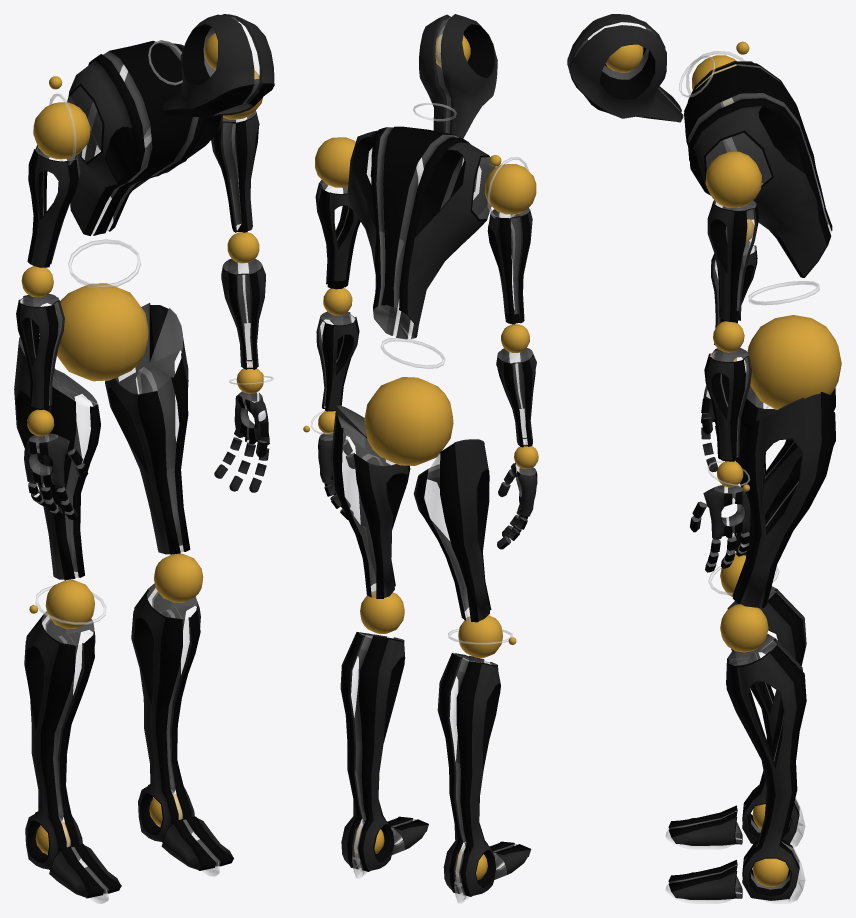
Rendered from Statue 3.fbx.
The picture shows the model from 3 angles, left to right: view 1: azimuth 30°, elevation 25°; view 2: azimuth 150°, elevation 25°; view 3: azimuth 270°, elevation 25°; orthographic projection. The views are drawn at different scales.
Parts seen in each view (by area): view 1: Torso V2.003; view 2: Torso V2.003; view 3: Torso V2.003.
Boxes of the visible parts, x1=… form: Torso V2.003: x1=14, y1=14, x2=274, y2=903; Torso V2.003: x1=303, y1=14, x2=538, y2=903; Torso V2.003: x1=567, y1=14, x2=841, y2=903.
Size of the model in its own units: 0.4815 by 1.65 by 0.4667.
